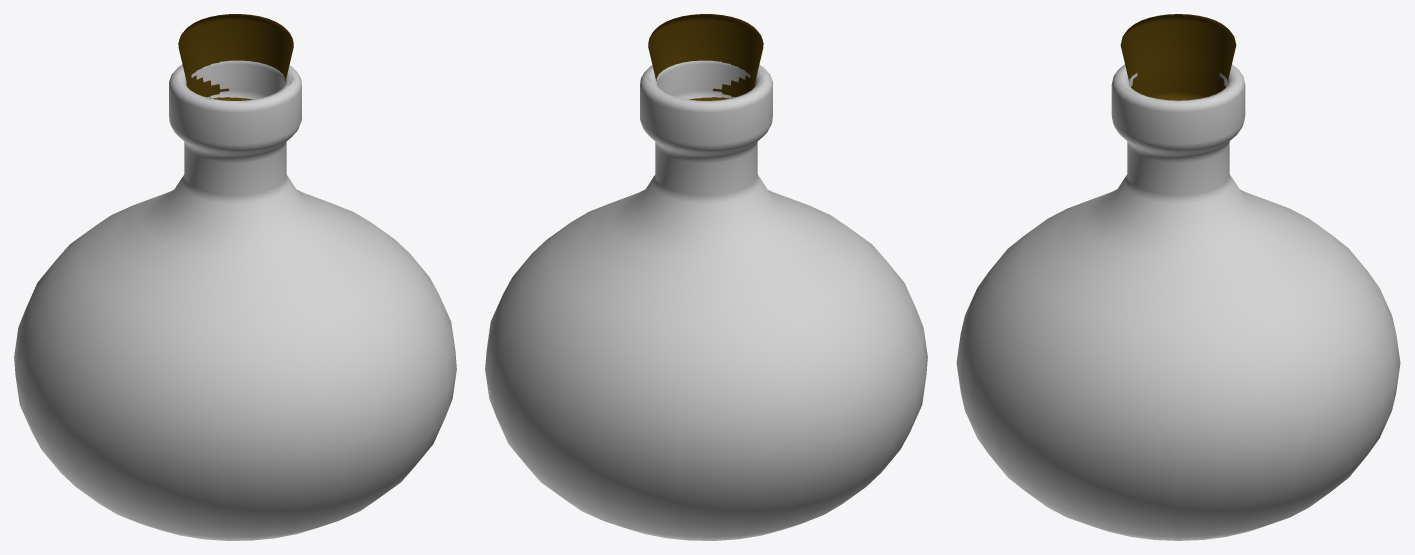
The model's file is poison2.obj.
3 renders of one model, left to right at view 1: azimuth 30°, elevation 25°; view 2: azimuth 150°, elevation 25°; view 3: azimuth 270°, elevation 25°, orthographic.
Visible parts, largest first — view 1: Sphere, Bottle_Cap.001_Cylinder.006; view 2: Sphere, Bottle_Cap.001_Cylinder.006; view 3: Sphere, Bottle_Cap.001_Cylinder.006.
Part boxes in pixels (x1=…): Sphere: x1=14, y1=60, x2=456, y2=540; Bottle_Cap.001_Cylinder.006: x1=178, y1=14, x2=293, y2=100; Sphere: x1=485, y1=60, x2=927, y2=540; Bottle_Cap.001_Cylinder.006: x1=648, y1=14, x2=763, y2=100; Sphere: x1=956, y1=64, x2=1400, y2=540; Bottle_Cap.001_Cylinder.006: x1=1120, y1=14, x2=1236, y2=100.
Bounding box in the file's own units: 5.58 × 6.36 × 5.58.
